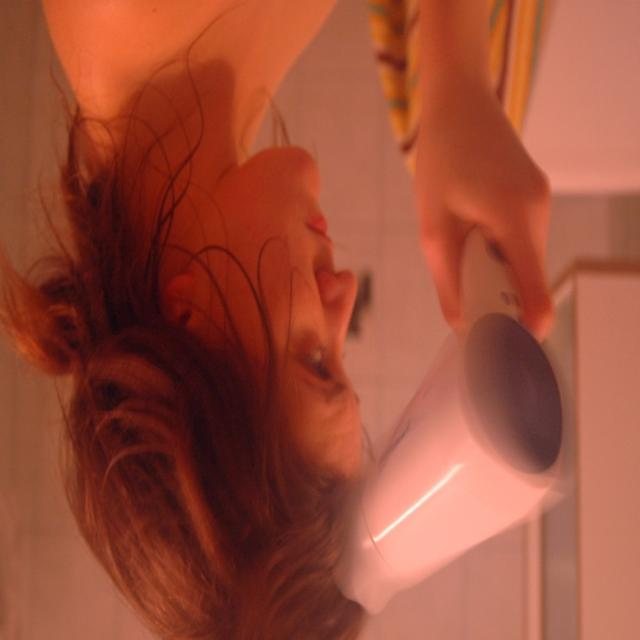dryer: (312, 88, 579, 634)
